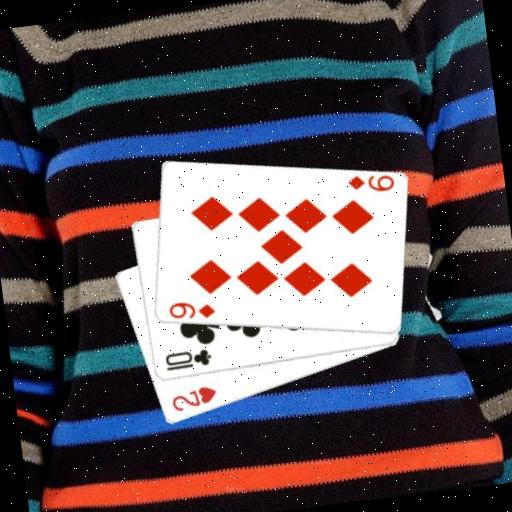10C: (161, 346, 214, 373)
2H: (167, 382, 220, 415)
9D: (164, 295, 217, 325), (344, 168, 397, 198)
